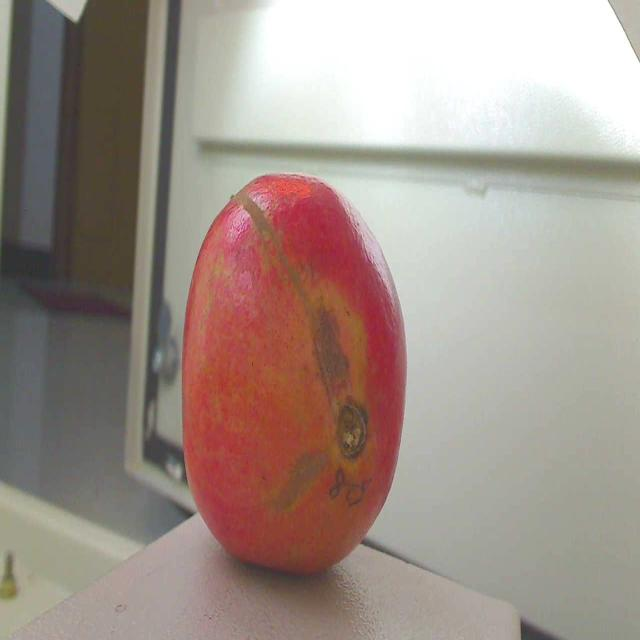pomegranate: (164, 136, 410, 578)
